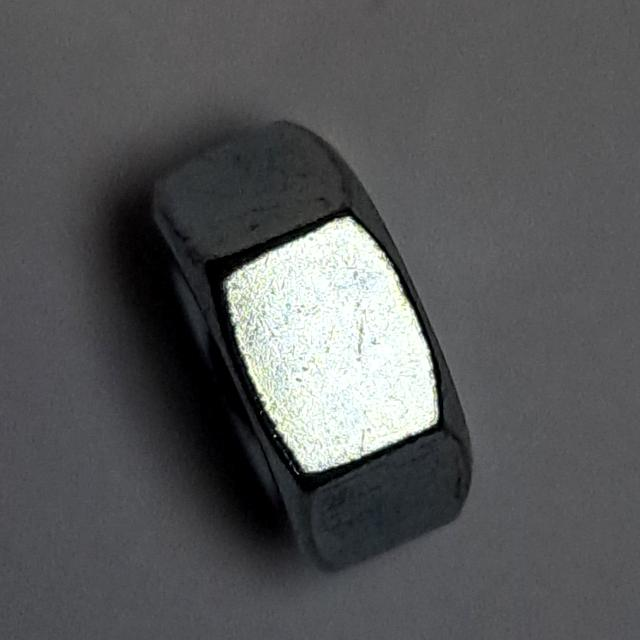Side_Excellent: (134, 107, 502, 589)
